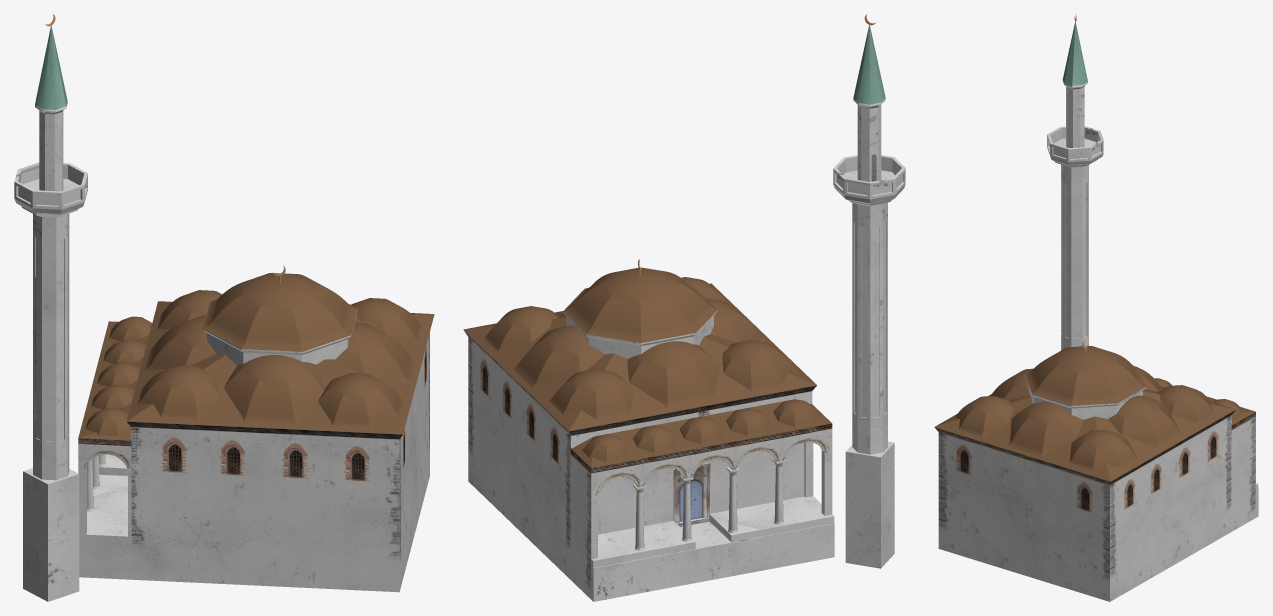
The model's file is tzami.fbx.
3 views of the same model, side by side, from view 1: azimuth 30°, elevation 25°; view 2: azimuth 150°, elevation 25°; view 3: azimuth 270°, elevation 25° (orthographic). The views are drawn at different scales.
Visible parts, largest first — view 1: Group1, Group2; view 2: Group1, Group2; view 3: Group1, Group2.
Boxes of the visible parts, x1,y1,x2,y2 form: Group1: (78, 265, 434, 592); Group2: (14, 14, 87, 601); Group1: (463, 259, 834, 601); Group2: (833, 14, 905, 568); Group1: (934, 340, 1258, 601); Group2: (1047, 14, 1103, 350).
Size of the model in its own units: 29801 by 37335 by 25004.
